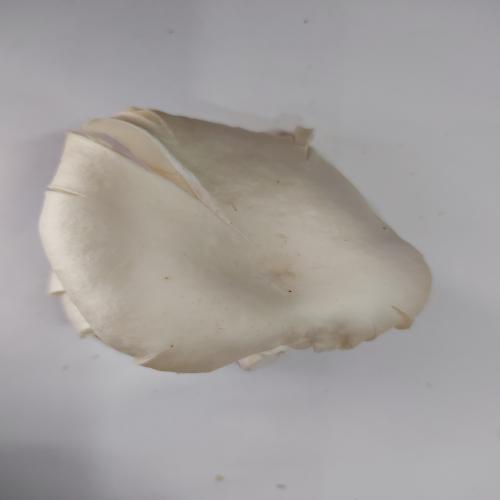Oyster Mushroom: (38, 105, 434, 374)
